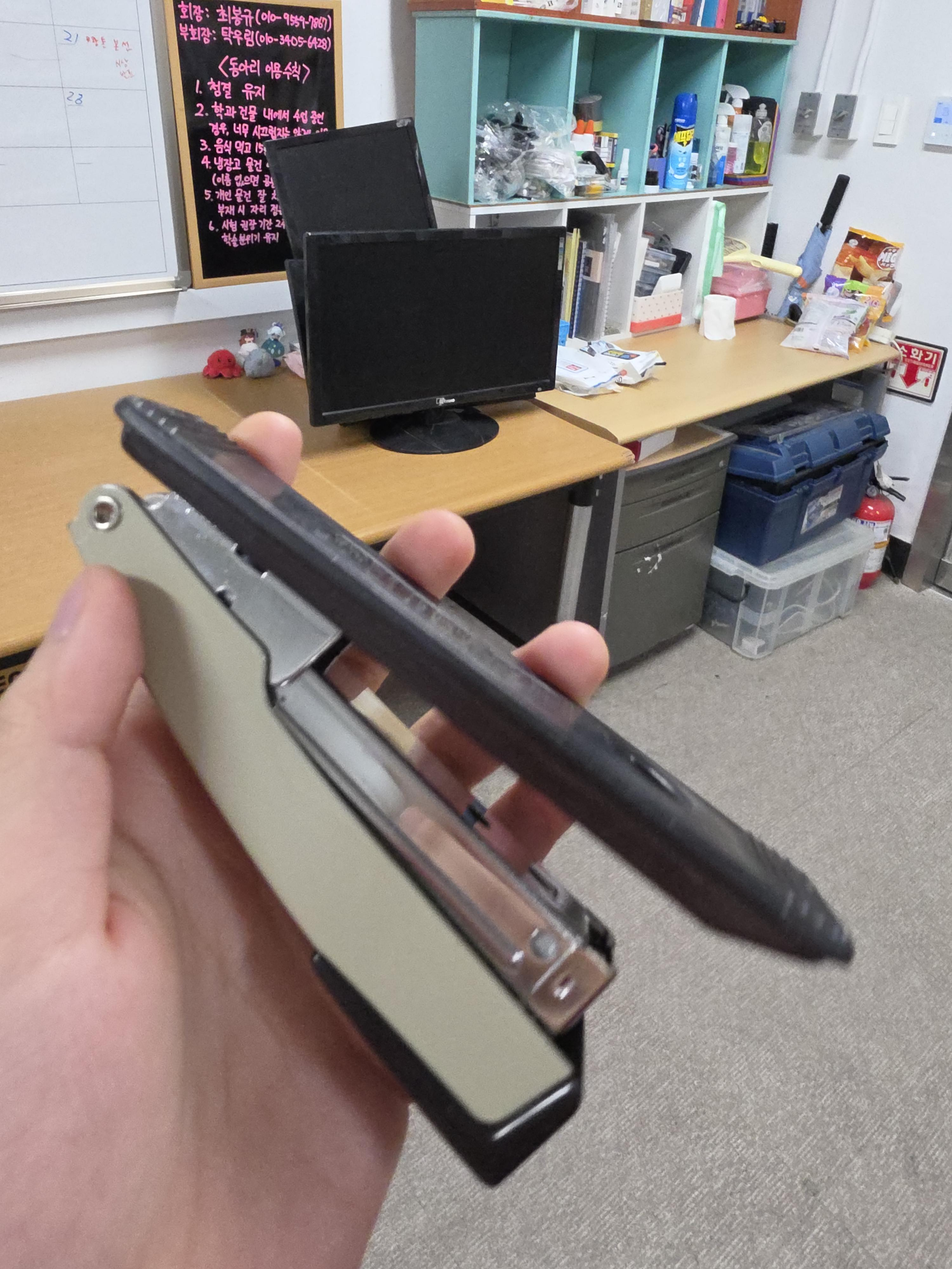stapler: (68, 395, 856, 1189)
tissue: (629, 272, 684, 338), (698, 293, 736, 341)
